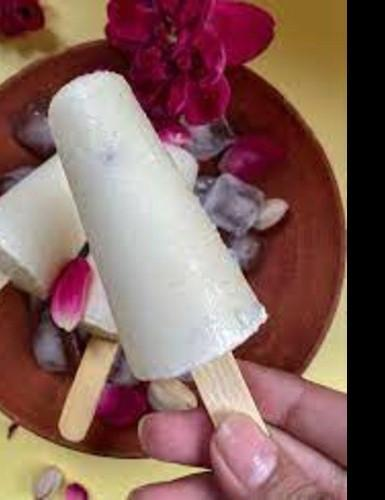Kulfi: (48, 72, 270, 380), (73, 141, 198, 342), (0, 150, 86, 301)
